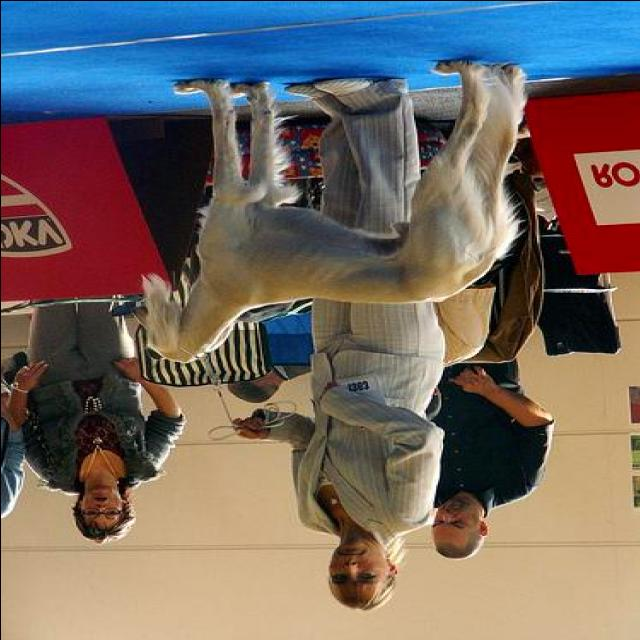saluki: (130, 56, 530, 368)
